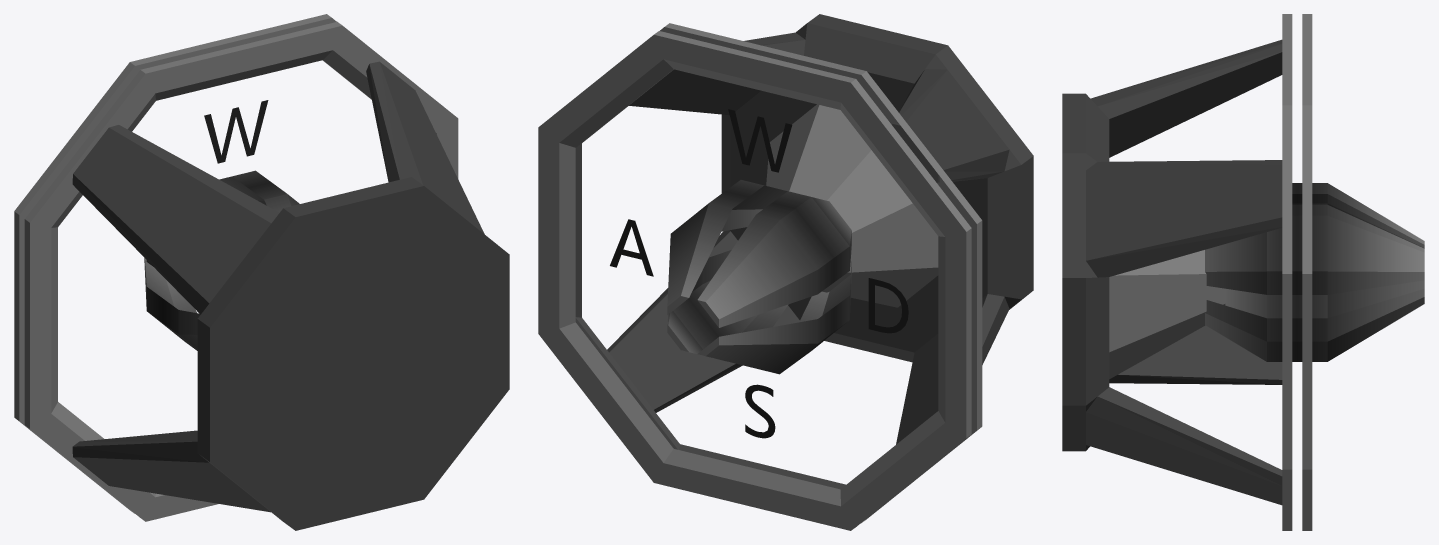
Rendered from Leg_TLY_1X1_off.FBX.
3 renders of one model, left to right at view 1: azimuth 30°, elevation 25°; view 2: azimuth 150°, elevation 25°; view 3: azimuth 270°, elevation 25°, orthographic. The views are drawn at different scales.
Visible parts, largest first — view 1: TLY; view 2: TLY; view 3: TLY.
Boxes of the visible parts, x1,y1,x2,y2 form: TLY: [14, 14, 509, 530]; TLY: [538, 14, 1033, 530]; TLY: [1062, 14, 1424, 530].
Bounding box in the file's own units: 1 × 1 × 0.771.
